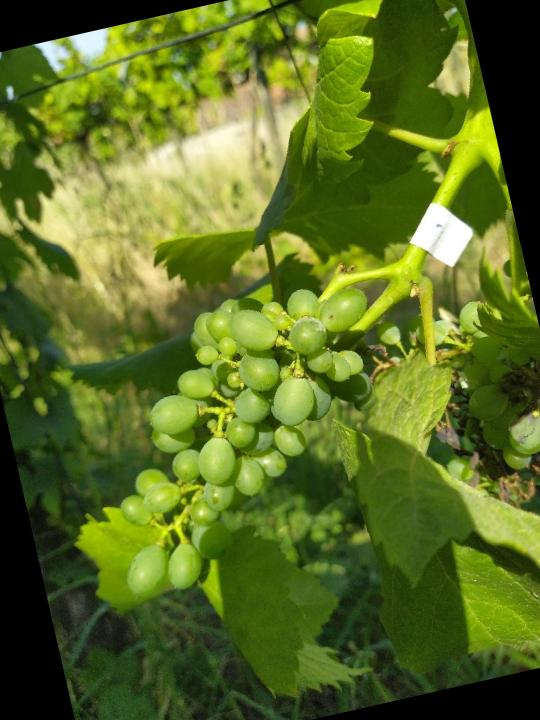grape: (63, 258, 448, 609)
